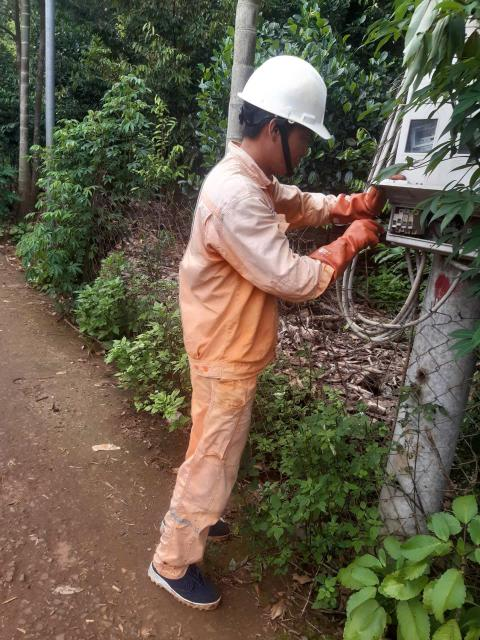gloves: (309, 158, 392, 226), (319, 217, 385, 268)
helmet: (231, 33, 348, 153)
shoes: (136, 548, 231, 612), (196, 513, 241, 544)
